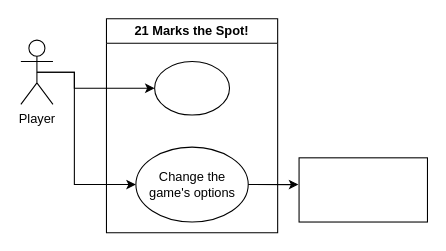
The diagram is 446 pixels wide and 251 high, and some of its shapes have lost their labels. The centre of each missing label's shape, as x and y in pixels:
"Music volume Sound effects volume" goes at point (362, 189).
"Play the game" goes at point (192, 87).
